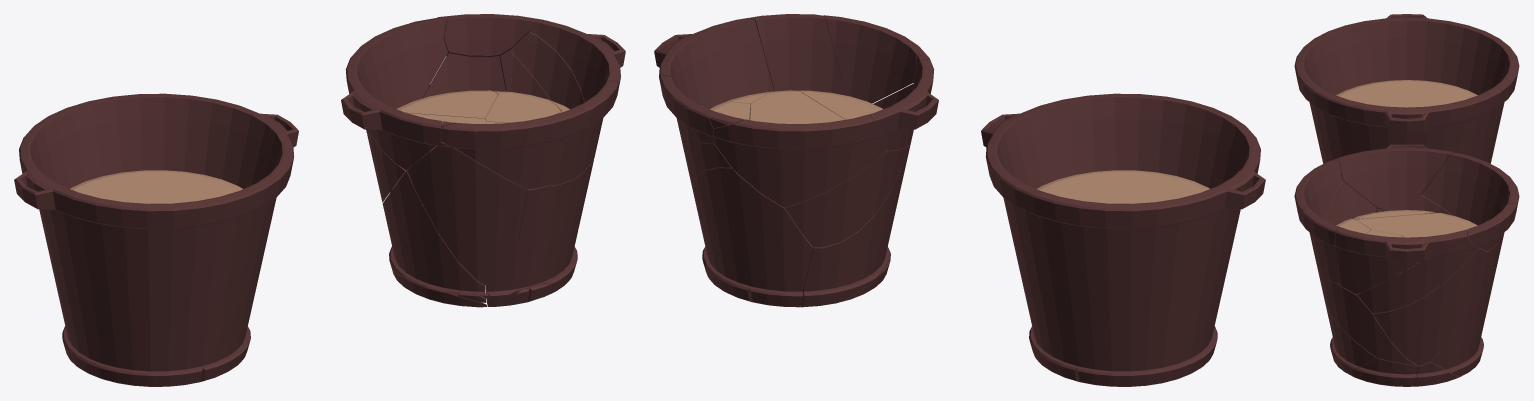
Rendered from potted_plants.fbx.
3 renders of one model, left to right at view 1: azimuth 30°, elevation 25°; view 2: azimuth 150°, elevation 25°; view 3: azimuth 270°, elevation 25°, orthographic. The views are drawn at different scales.
Parts seen in each view (by area): view 1: potted plant_01, potted plant_01.001_cell.013, potted plant_01.001_cell.004, potted plant_01.001_cell.005, potted plant_01.001_cell.016, potted plant_01.001_cell.023, potted plant_01.001_cell.027, soil, potted plant_01.001_cell.025, potted plant_01.001_cell.007, potted plant_01.001_cell.002, potted plant_01.001_cell.026 (+8 smaller); view 2: potted plant_01, potted plant_01.001_cell.006, potted plant_01.001_cell.016, potted plant_01.001_cell.025, potted plant_01.001_cell.004, potted plant_01.001_cell.005, potted plant_01.001_cell.019, potted plant_01.001_cell.014, soil, potted plant_01.001_cell.023, soil.001_cell.008, potted plant_01.001_cell.007 (+3 smaller); view 3: potted plant_01, potted plant_01.001_cell.012, potted plant_01.001_cell.023, potted plant_01.001_cell.025, potted plant_01.001_cell.016, potted plant_01.001_cell.026, potted plant_01.001_cell.002, soil, potted plant_01.001_cell.006, potted plant_01.001_cell.004, potted plant_01.001_cell.019, potted plant_01.001_cell.008 (+10 smaller).
Part boxes in pixels (x1,y1,x2,y2): potted plant_01: (14, 93, 298, 386); potted plant_01.001_cell.013: (407, 142, 527, 285); potted plant_01.001_cell.004: (441, 107, 586, 189); potted plant_01.001_cell.005: (382, 167, 486, 302); potted plant_01.001_cell.016: (345, 24, 448, 135); potted plant_01.001_cell.023: (341, 75, 442, 169); potted plant_01.001_cell.027: (485, 228, 578, 306); soil: (70, 170, 242, 203); potted plant_01.001_cell.025: (529, 20, 625, 163); potted plant_01.001_cell.007: (437, 14, 544, 56); potted plant_01.001_cell.002: (518, 159, 593, 238); potted plant_01.001_cell.026: (510, 32, 584, 109); potted plant_01: (981, 93, 1265, 386); potted plant_01.001_cell.006: (694, 168, 812, 307); potted plant_01.001_cell.016: (713, 114, 886, 207); potted plant_01.001_cell.025: (654, 17, 774, 102); potted plant_01.001_cell.004: (823, 15, 930, 103); potted plant_01.001_cell.005: (800, 145, 909, 307); potted plant_01.001_cell.019: (750, 14, 845, 95); potted plant_01.001_cell.014: (785, 146, 908, 247); soil: (1037, 170, 1209, 203); potted plant_01.001_cell.023: (869, 59, 938, 150); soil.001_cell.008: (749, 90, 844, 123); potted plant_01.001_cell.007: (659, 75, 715, 143); potted plant_01: (1294, 14, 1519, 212); potted plant_01.001_cell.012: (1373, 247, 1486, 365); potted plant_01.001_cell.023: (1333, 144, 1454, 207); potted plant_01.001_cell.025: (1335, 227, 1468, 294); potted plant_01.001_cell.016: (1421, 152, 1518, 225); potted plant_01.001_cell.026: (1357, 236, 1478, 313); potted plant_01.001_cell.002: (1317, 266, 1417, 365); soil: (1336, 80, 1477, 107); potted plant_01.001_cell.006: (1431, 250, 1500, 376); potted plant_01.001_cell.004: (1294, 160, 1342, 233); potted plant_01.001_cell.019: (1301, 206, 1339, 283); potted plant_01.001_cell.008: (1348, 358, 1417, 386).
Size of the model in its own units: 194 by 61.82 by 77.63.
